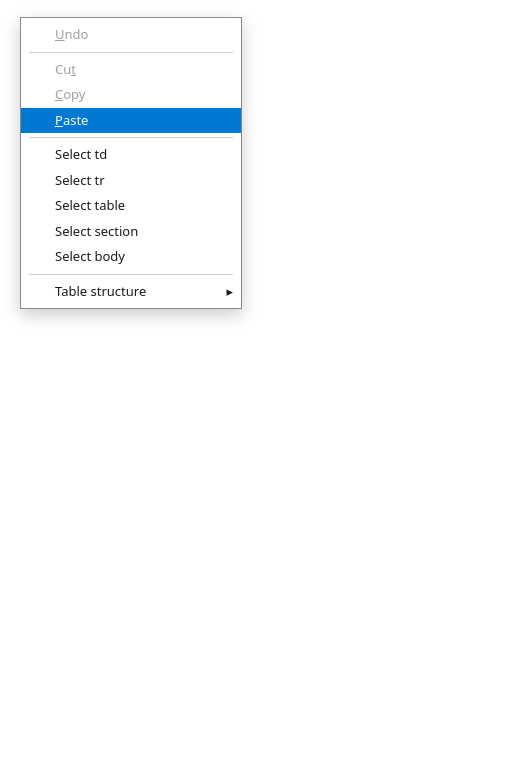
Test: the Body context menu › lists the 24 table commands in FR-039’s order with seven separators, without letters; live ones by their availability, stubs disabled
Click the menu item with test id "context-menu-tableStructure" at [144, 291], box [55,282,233,300]
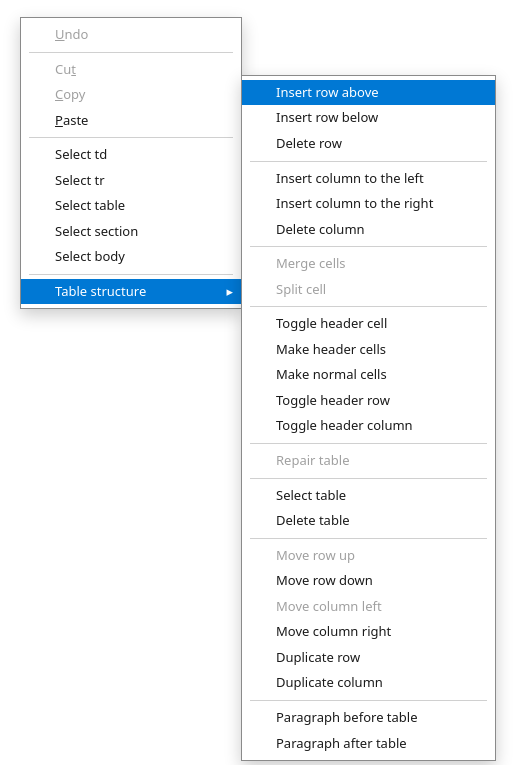
Expected: the menu item with test id "context-menu-tableStructure-insertRowBelow" reads "Insert row below", [276,108,378,126]
